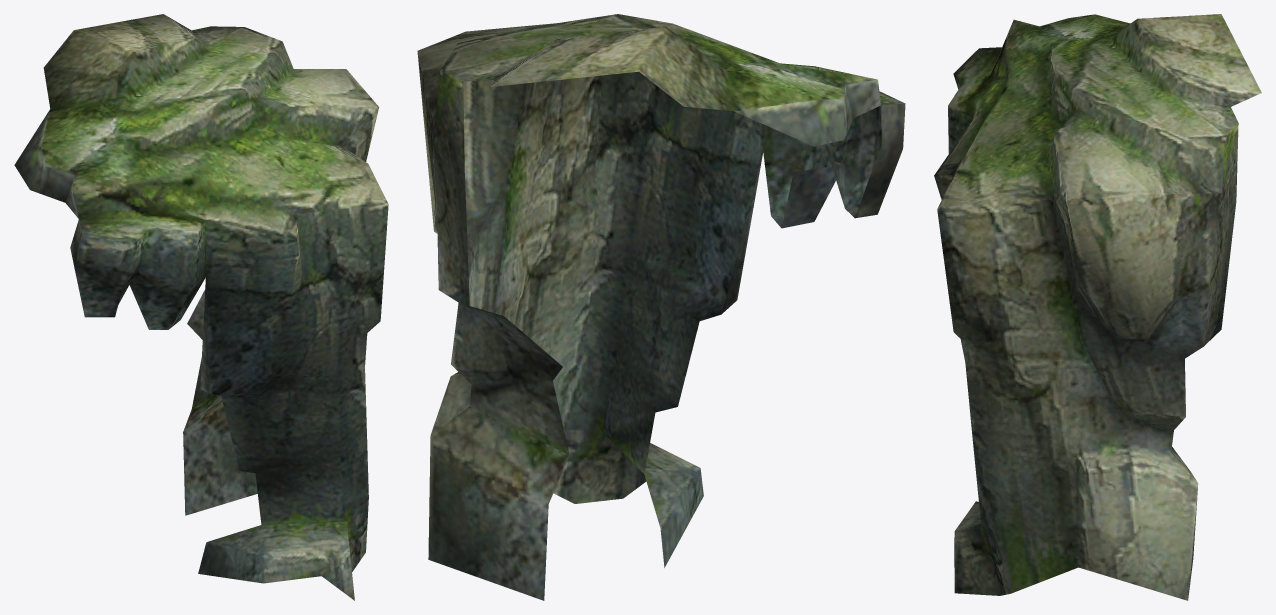
Rendered from S_Rock_Green047_1060_5.fbx.
The picture shows the model from 3 angles, left to right: view 1: azimuth 30°, elevation 25°; view 2: azimuth 150°, elevation 25°; view 3: azimuth 270°, elevation 25°; orthographic projection. The views are drawn at different scales.
Visible parts, largest first — view 1: S_Rock_Green047_1060_5; view 2: S_Rock_Green047_1060_5; view 3: S_Rock_Green047_1060_5.
Boxes of the visible parts, box(x1,y1,x2,y2) form: S_Rock_Green047_1060_5: box(14, 14, 388, 600); S_Rock_Green047_1060_5: box(417, 14, 905, 600); S_Rock_Green047_1060_5: box(934, 14, 1261, 600).
Size of the model in its own units: 971 by 1363 by 792.
1 material, 1 textured.
